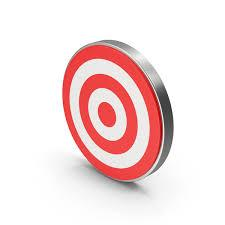target_red: (61, 38, 174, 183)
